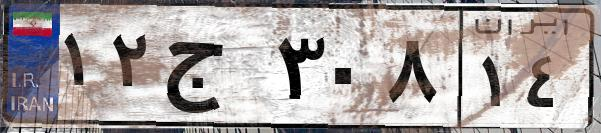0: (330, 28, 385, 110)
1: (57, 26, 110, 100), (475, 38, 525, 113)
2: (110, 28, 158, 98)
3: (270, 28, 330, 110)
4: (525, 38, 570, 115)
8: (385, 28, 445, 110)
ج: (158, 20, 270, 120)
